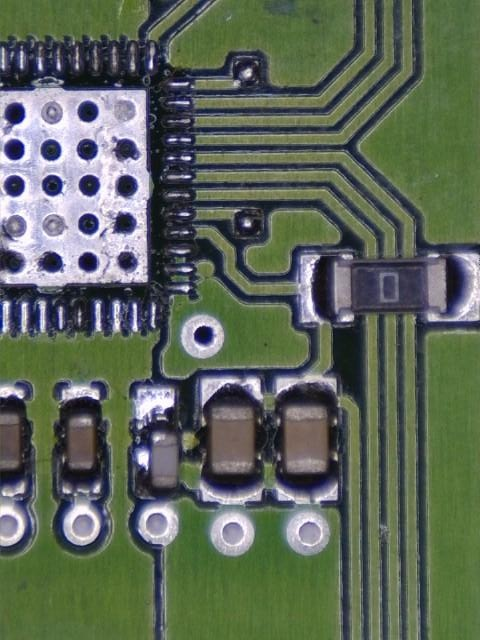pcb_defect: (133, 386, 179, 501)
